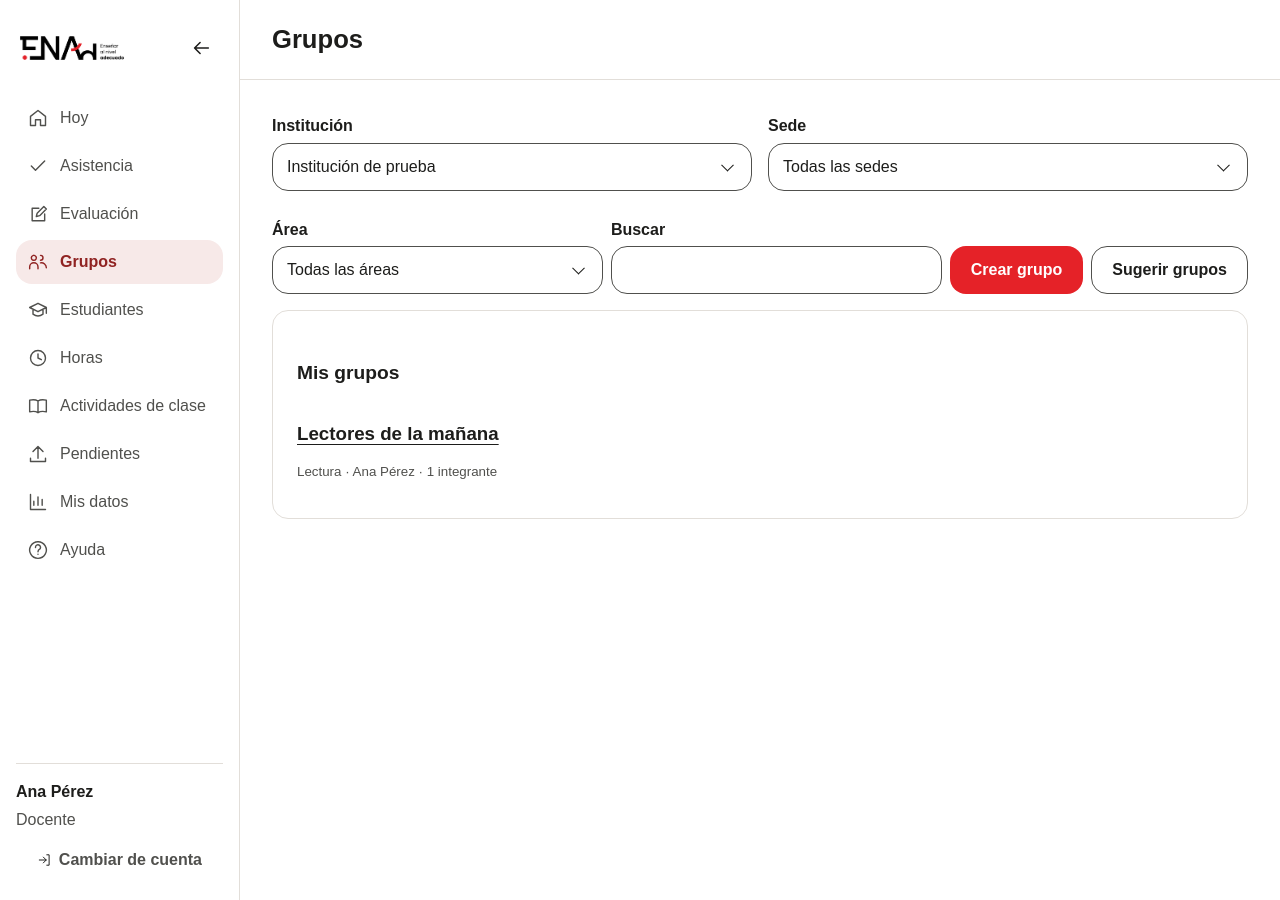
solicita una sede al crear un grupo desde todas las sedes
This screenshot has width=1280, height=900.
Click the button "Crear grupo" at (1017, 270), box [950, 246, 1083, 294]
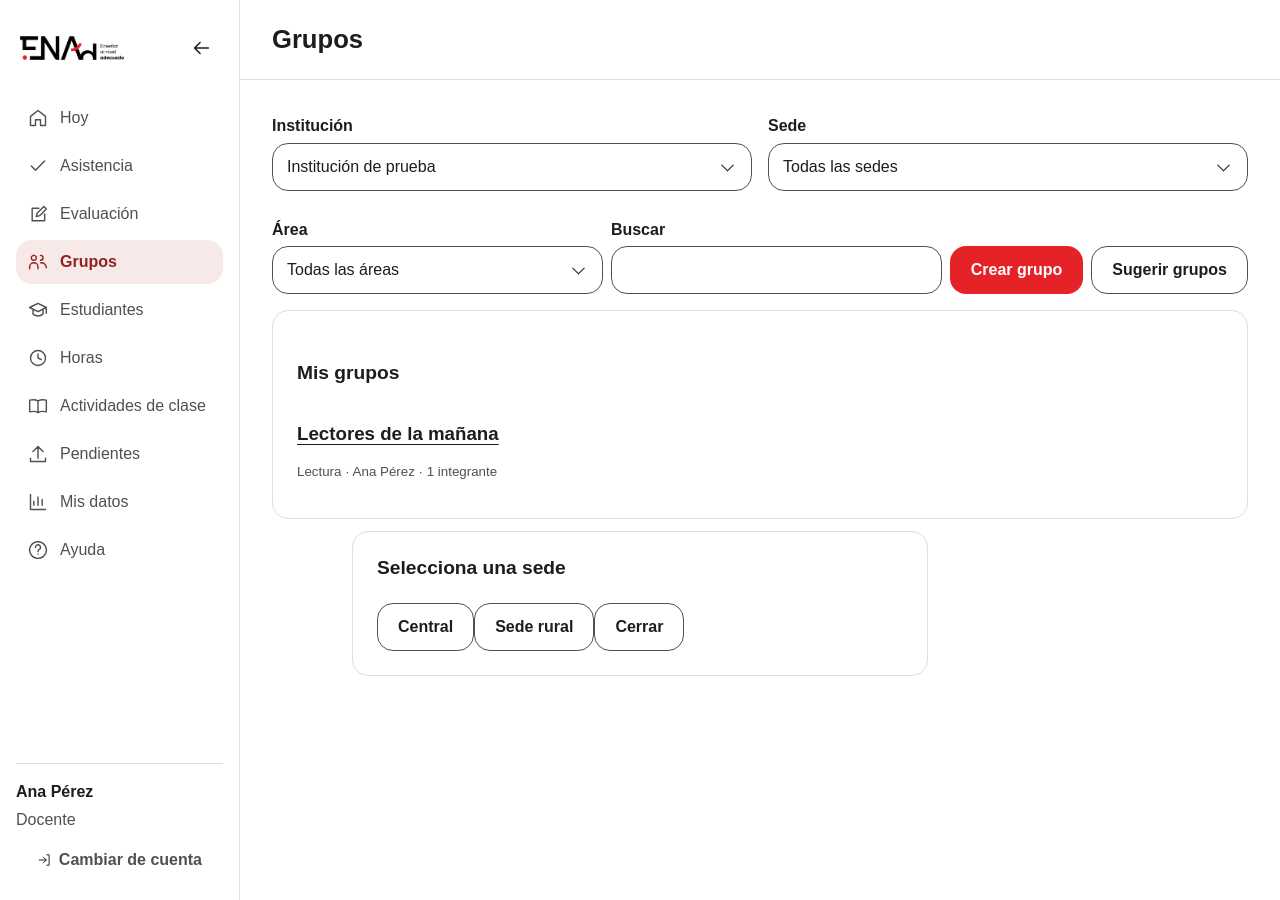
Click the button "Sede rural" at (534, 627), box [474, 603, 594, 651]
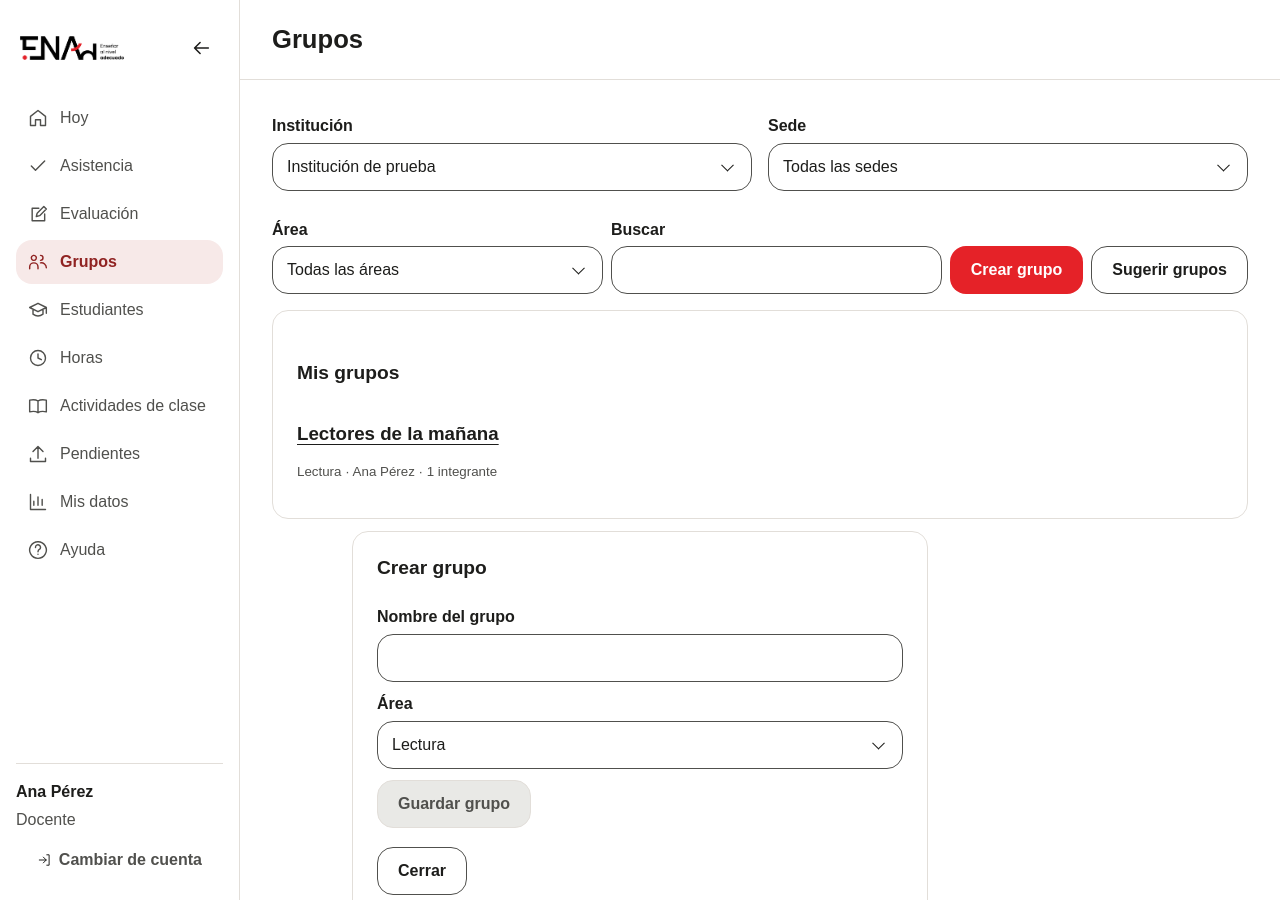
Type "Lectores de la mañana" into the field labelled "Nombre del grupo" at (640, 658), box [377, 634, 903, 682]
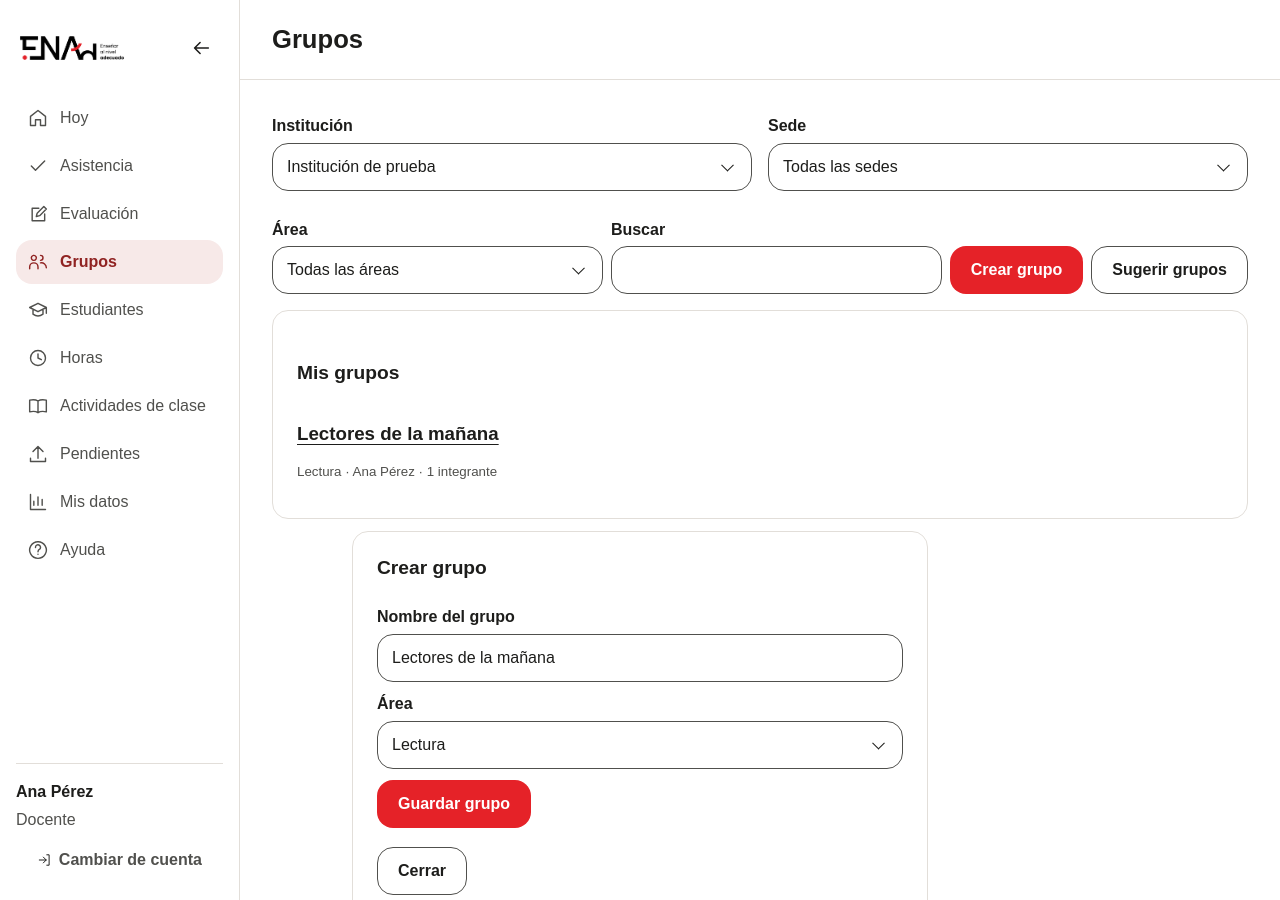
Click the button "Guardar grupo" at (454, 804), box [377, 780, 531, 828]
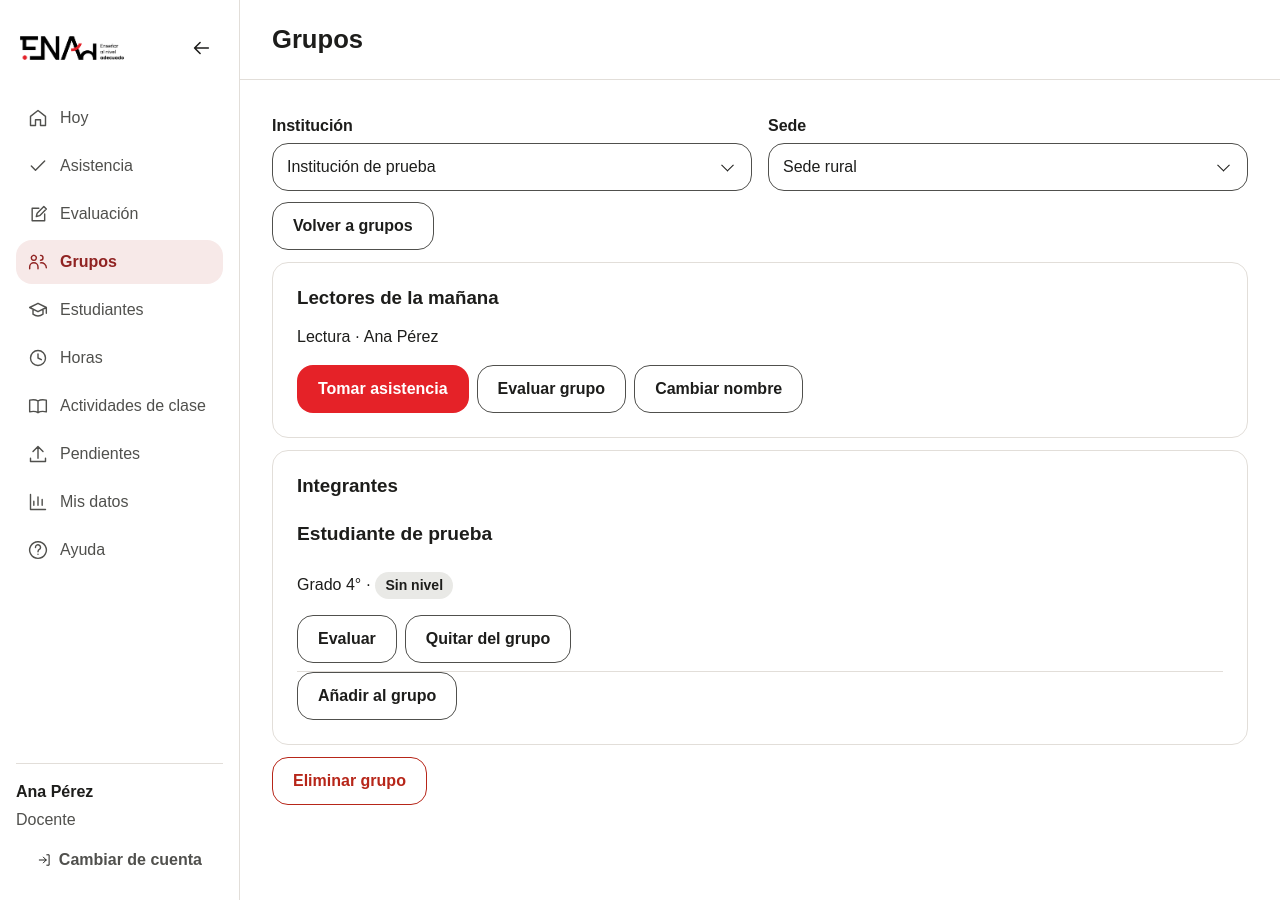
Expected: the link "Tomar asistencia" is shown, [297, 365, 468, 413]
